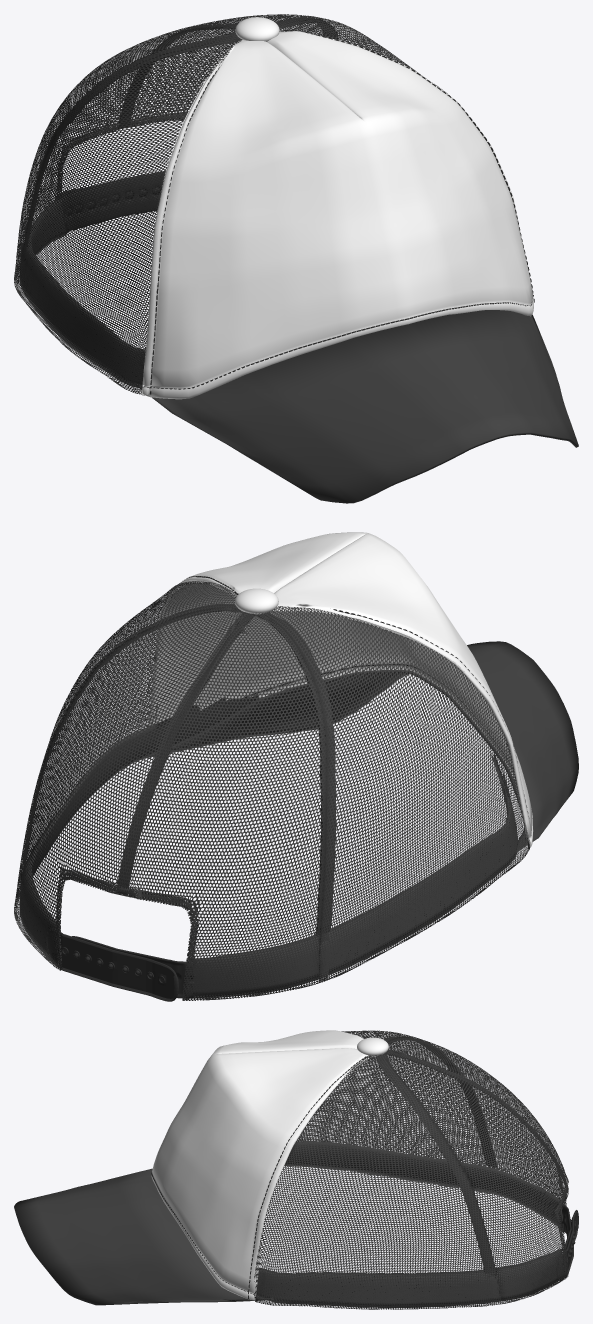
File: gorra.glb
The picture shows the model from 3 angles, top to bottom: view 1: azimuth 30°, elevation 25°; view 2: azimuth 150°, elevation 25°; view 3: azimuth 270°, elevation 25°; orthographic projection. The views are drawn at different scales.
Parts seen in each view (by area): view 1: gorra; view 2: gorra; view 3: gorra.
Boxes of the visible parts, box(x1,y1,x2,y2) form: gorra: box(14, 14, 578, 503); gorra: box(14, 532, 578, 1001); gorra: box(14, 1030, 578, 1309).
Bounding box in the file's own units: 0.1886 × 0.1389 × 0.3189.
4 materials, 2 textured.
